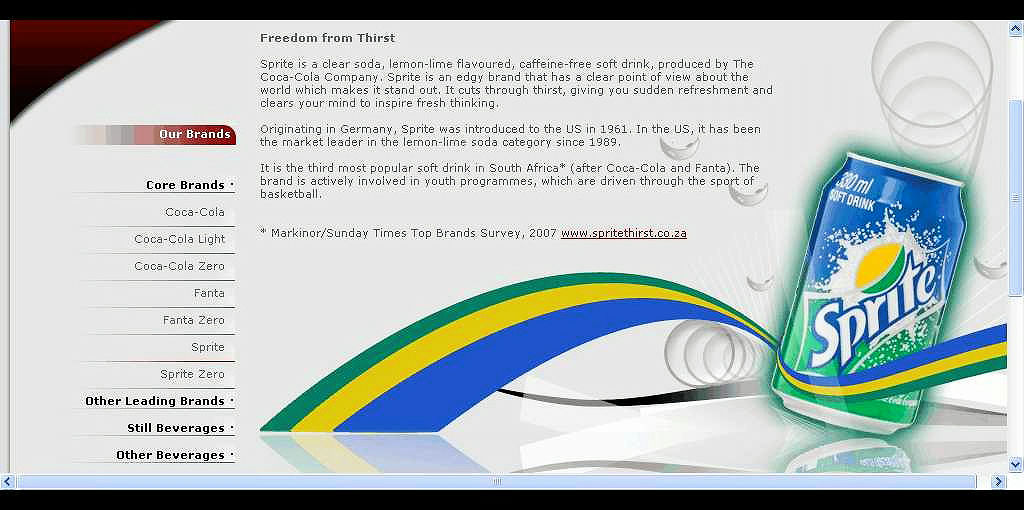sprite: (809, 251, 936, 372)
